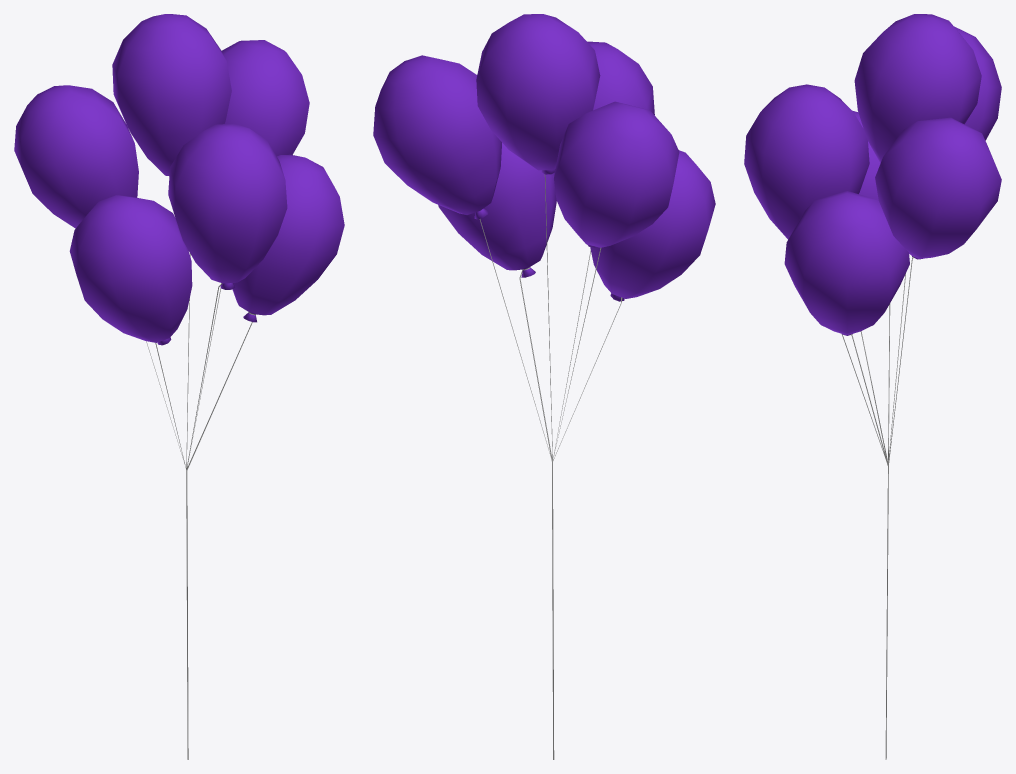
Rendered from BalloonBunchPurple.glb.
3 views of the same model, side by side, from view 1: azimuth 30°, elevation 25°; view 2: azimuth 150°, elevation 25°; view 3: azimuth 270°, elevation 25° (orthographic). The views are drawn at different scales.
Parts seen in each view (by area): view 1: BalloonBunchPurple; view 2: BalloonBunchPurple; view 3: BalloonBunchPurple.
Part boxes in pixels (bbox=[...]): BalloonBunchPurple: bbox=[14, 14, 344, 759]; BalloonBunchPurple: bbox=[373, 14, 715, 759]; BalloonBunchPurple: bbox=[744, 14, 1001, 759].
Bounding box in the file's own units: 1.32 × 3.26 × 1.03.
1 material, 1 textured.
